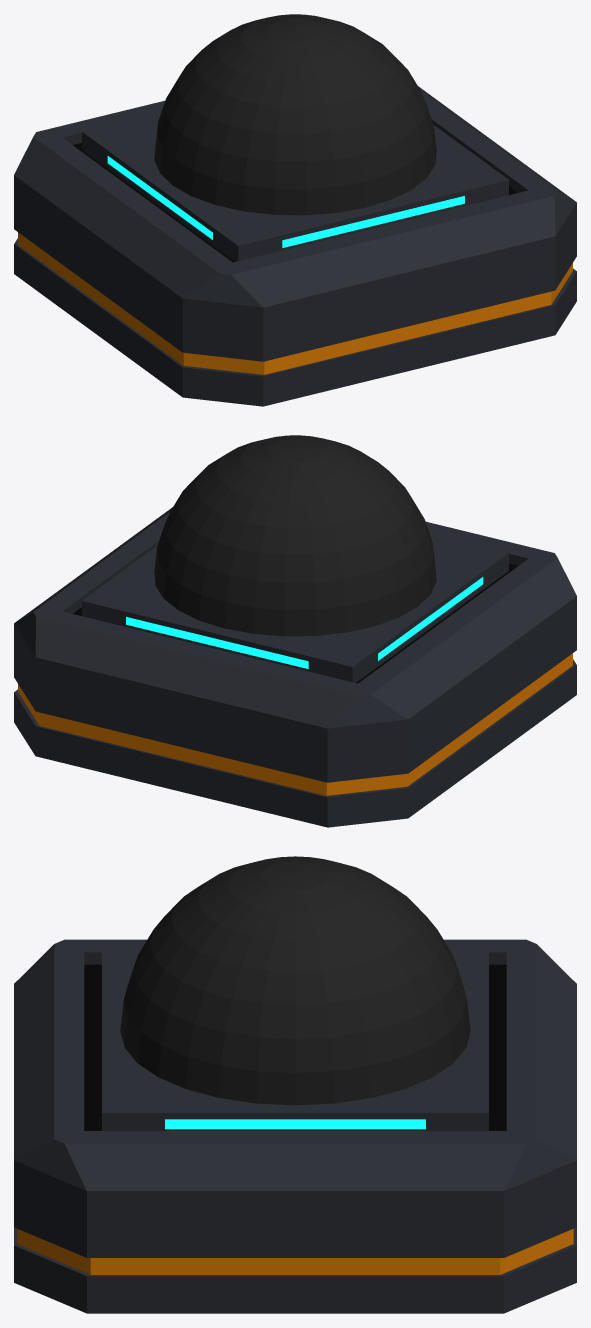
Rendered from SM_Camera.fbx.
The picture shows the model from 3 angles, top to bottom: view 1: azimuth 30°, elevation 25°; view 2: azimuth 150°, elevation 25°; view 3: azimuth 270°, elevation 25°; orthographic projection. The views are drawn at different scales.
Visible parts, largest first — view 1: SM_Camera; view 2: SM_Camera; view 3: SM_Camera.
Part boxes in pixels (<box>): SM_Camera: <box>14,14,576,406</box>; SM_Camera: <box>14,435,576,827</box>; SM_Camera: <box>14,856,576,1313</box>.
Bounding box in the file's own units: 70 × 44.16 × 70.
